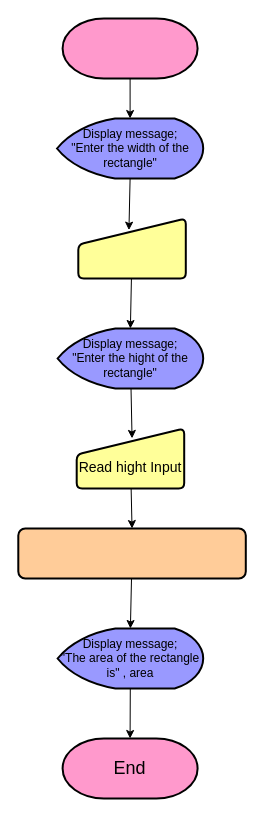
This 264x816 diagram has some shape labels left out. The shapes that lost their labels are listed below. From the top down, each one's centre as x and y in pixels, then its label:
(129,48): Start
(131,248): Read width Input
(131,553): Calculate atra: area = width * hight
